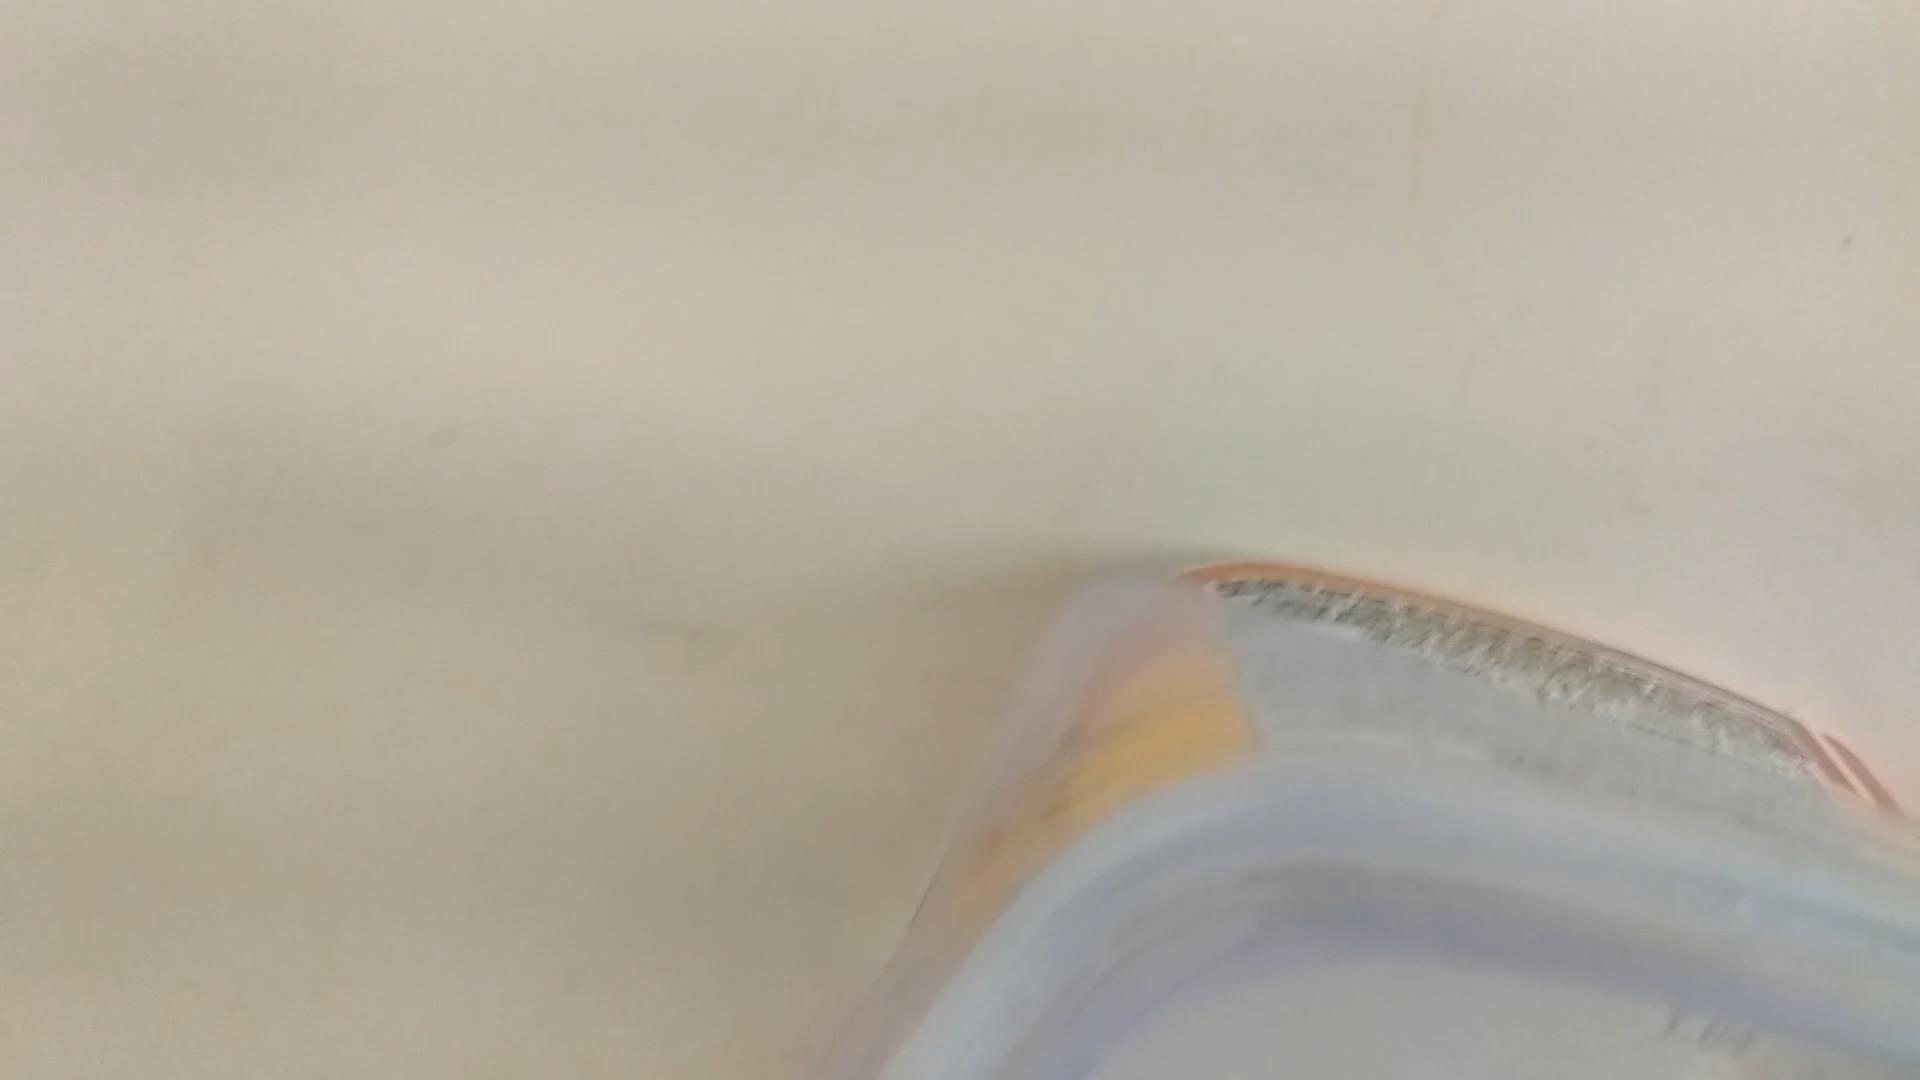butter: (787, 564, 1920, 1073)
